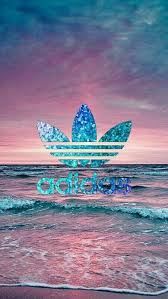adidas: (37, 104, 133, 195)
